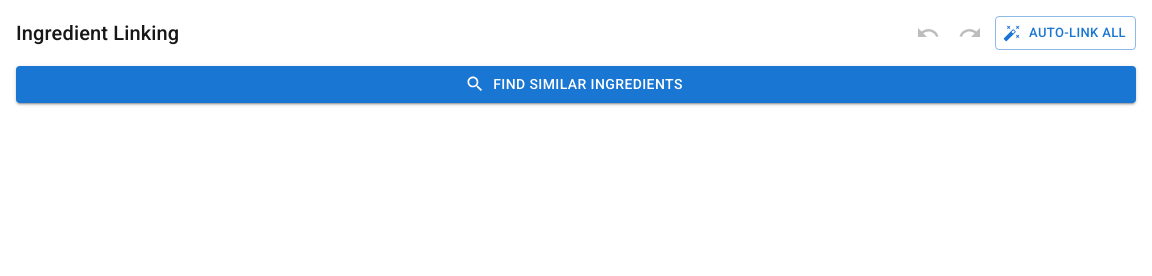
LinkingPanel › should detect shared ingredients
Click the button "Find Similar Ingredients": click(576, 84) x1=16 y1=66 x2=1136 y2=102
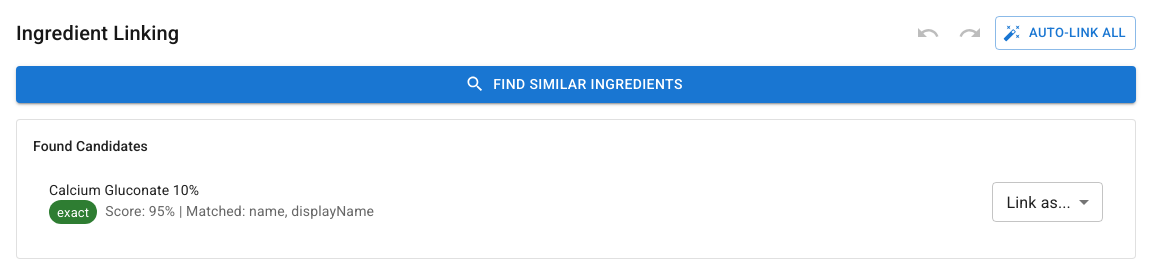
Expected: the heading "Found Candidates" is shown, x1=33 y1=138 x2=148 y2=154
Expected: the text "Calcium Gluconate 10%" is shown, x1=49 y1=182 x2=199 y2=198
Expected: the text "exact" is shown, x1=57 y1=205 x2=89 y2=220
